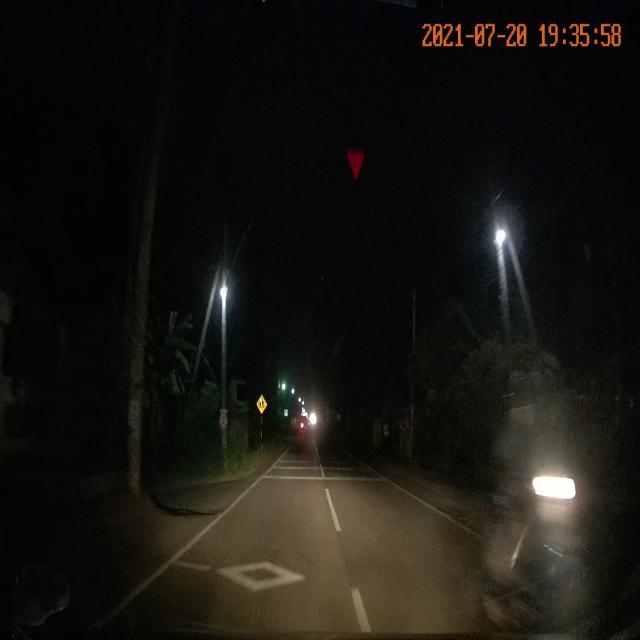diamond: (117, 536, 375, 630)
